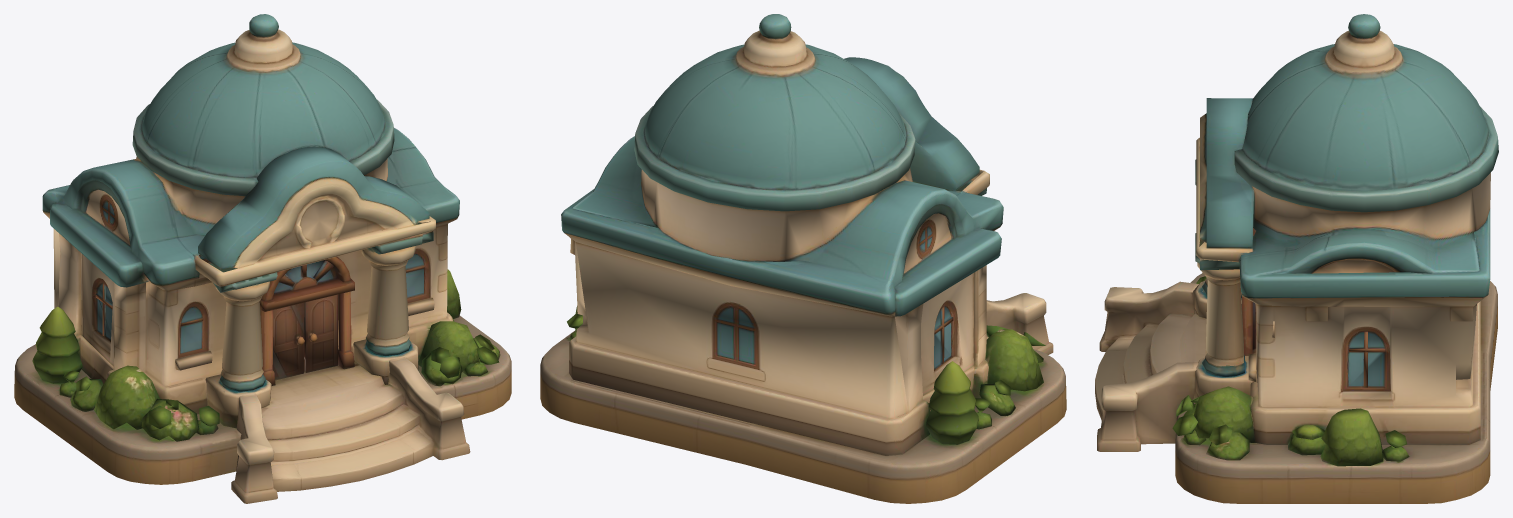
The model's file is museum.glb.
3 renders of one model, left to right at view 1: azimuth 30°, elevation 25°; view 2: azimuth 150°, elevation 25°; view 3: azimuth 270°, elevation 25°, orthographic. The views are drawn at different scales.
Parts seen in each view (by area): view 1: Museum; view 2: Museum; view 3: Museum.
Boxes of the visible parts, x1,y1,x2,y2 form: Museum: [14, 14, 511, 503]; Museum: [540, 14, 1066, 503]; Museum: [1095, 14, 1498, 503].
Bounding box in the file's own units: 0.998 × 0.8848 × 0.8262.
Materials: 1 (1 with a texture image).
